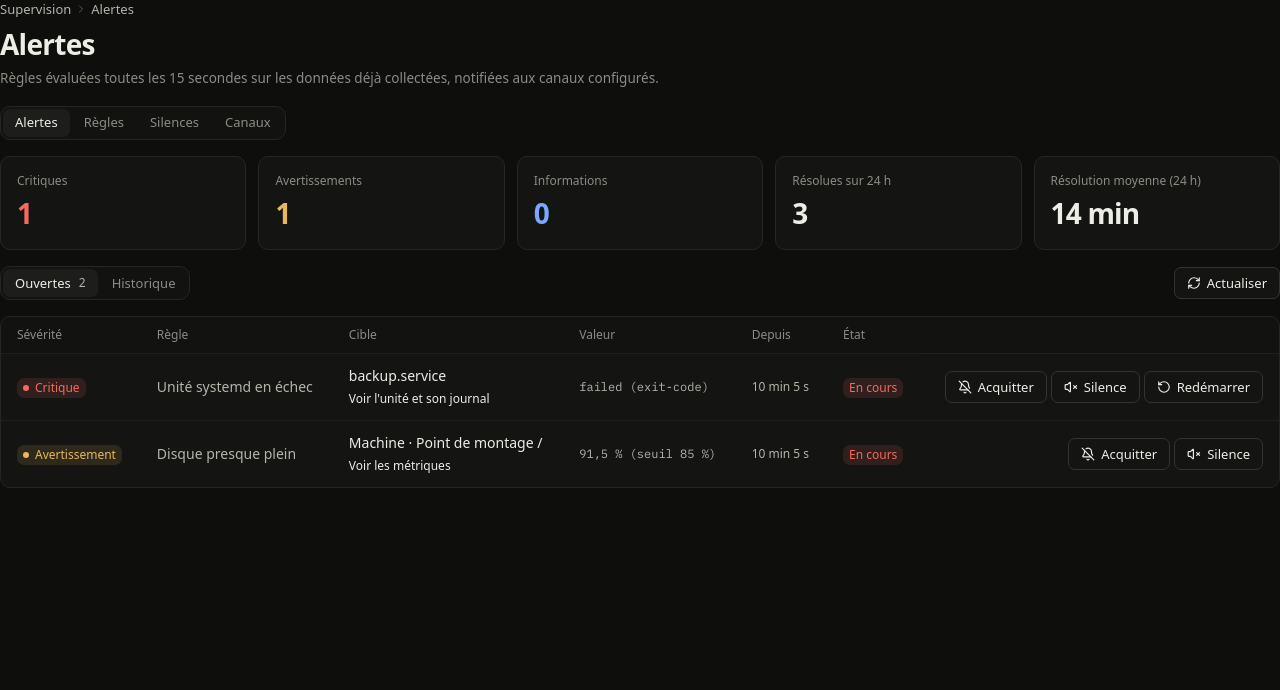
Scenario: AlertsPage › refuses an invalid rule before sending it
Click the button "Règles" at coordinates (104, 123), box x1=72 y1=109 x2=136 y2=137
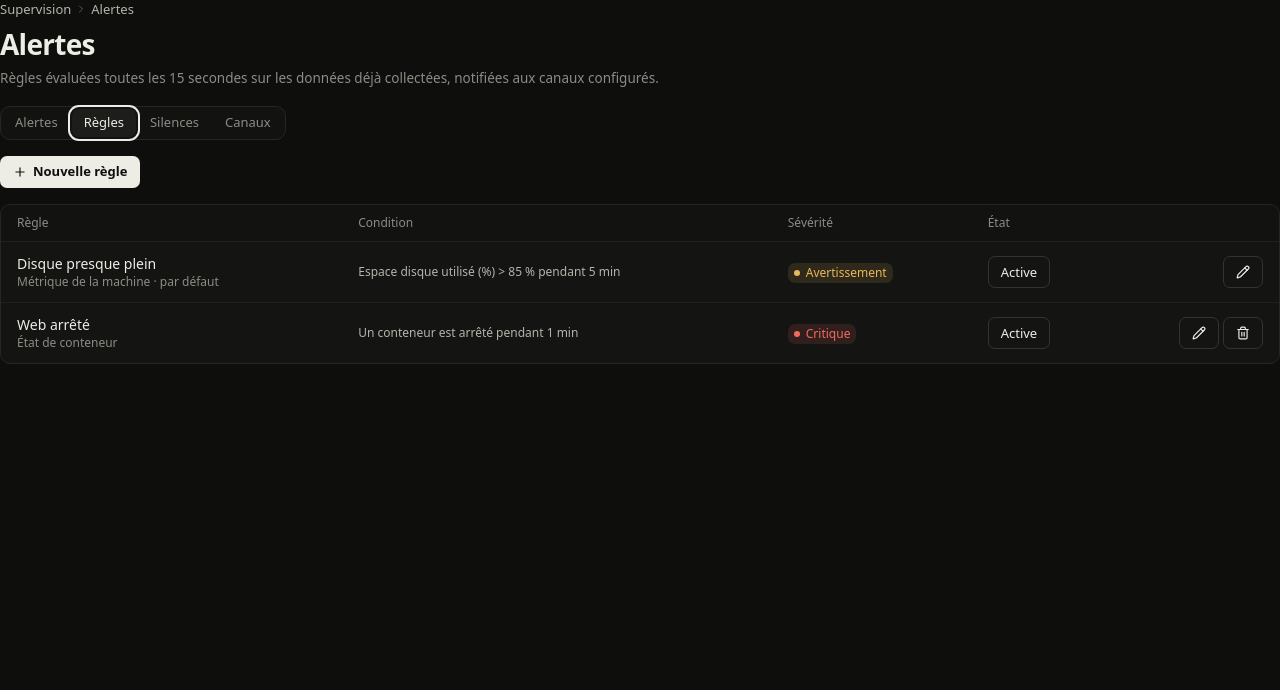
Click the button "Nouvelle règle" at coordinates (70, 172), box x1=0 y1=156 x2=140 y2=188
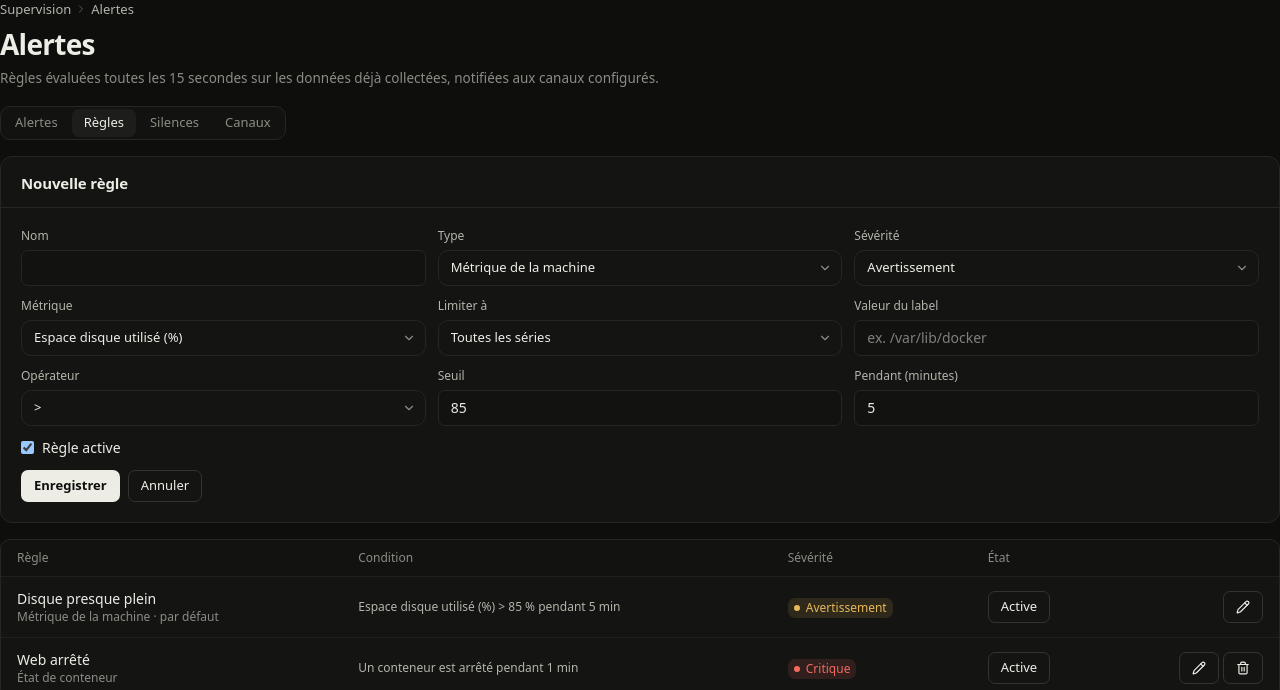
Clear the field labelled "Seuil" at coordinates (640, 408), box x1=438 y1=390 x2=842 y2=426
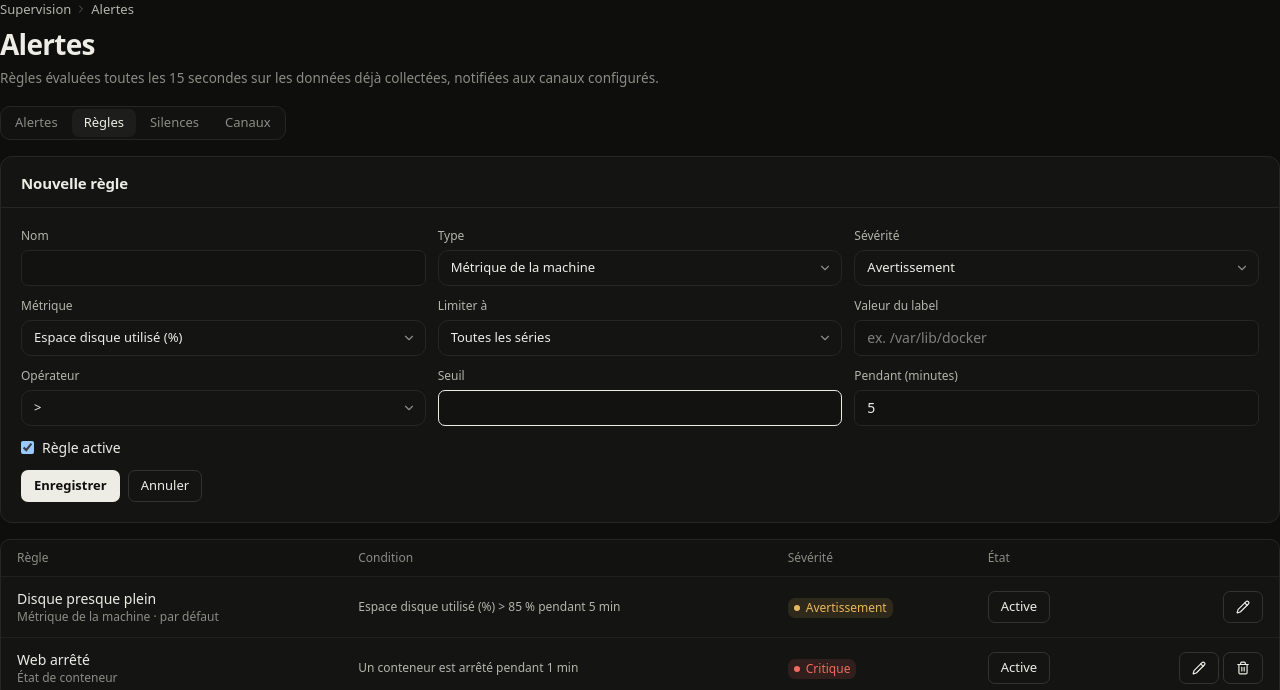
Click the button "Enregistrer" at coordinates (70, 486), box x1=21 y1=470 x2=120 y2=502
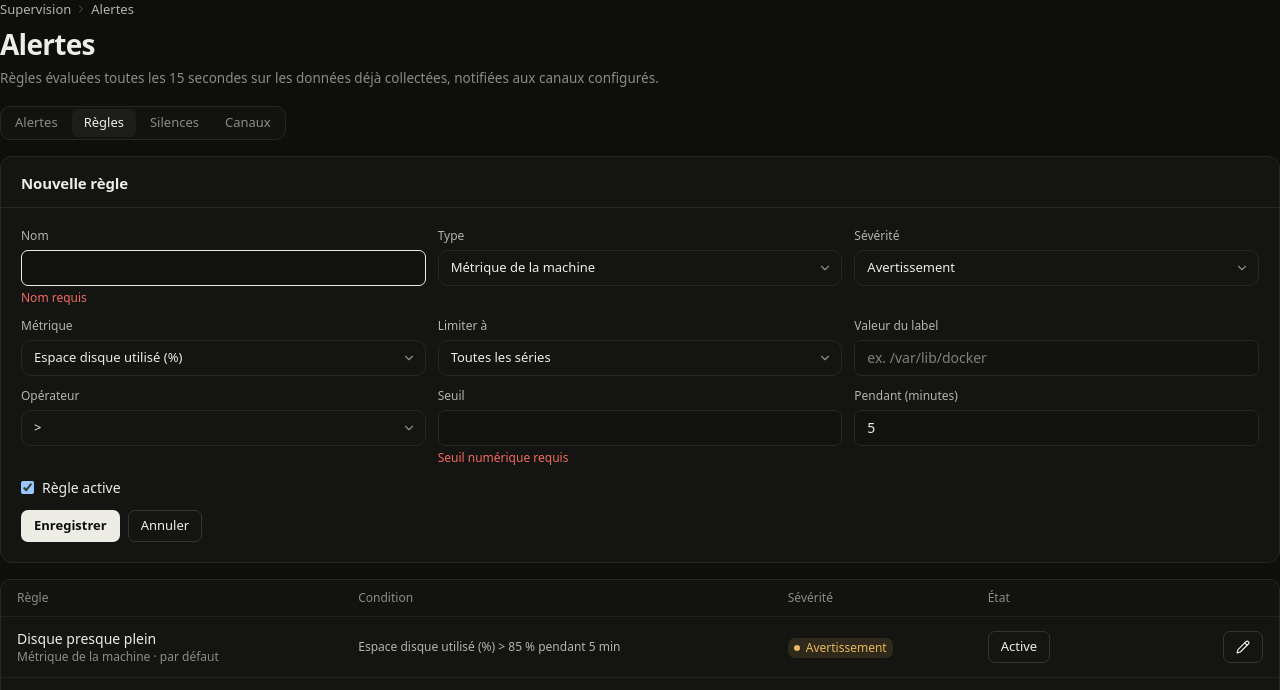
Check: the text "Nom requis" is shown, box x1=21 y1=288 x2=87 y2=306
Check: the text "Seuil numérique requis" is shown, box x1=438 y1=448 x2=568 y2=466
